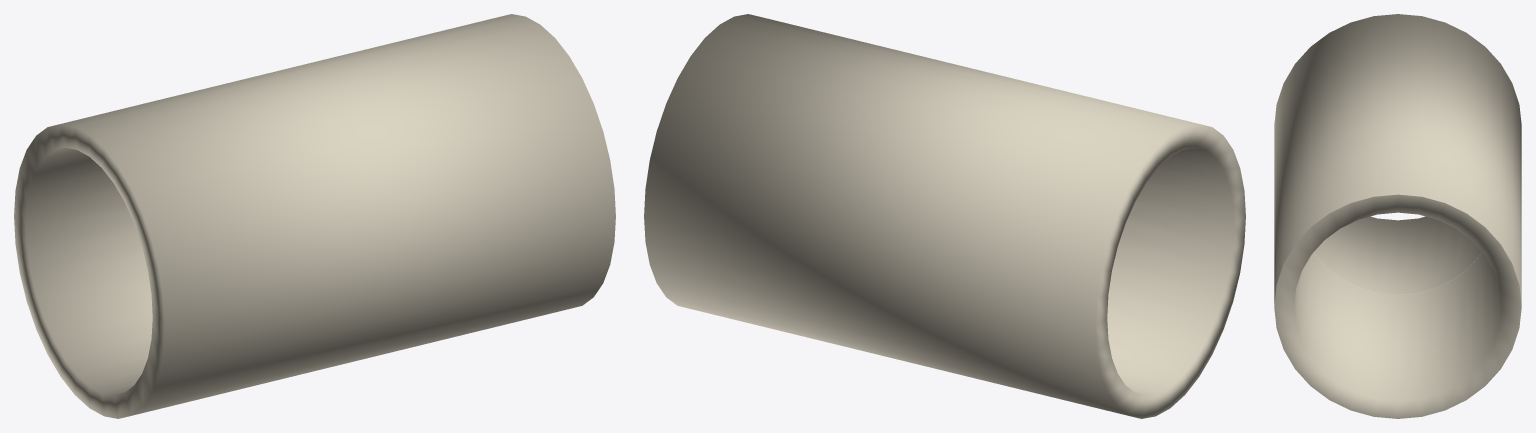
Rendered from ToiletRollEmptyV1.fbx.
The picture shows the model from 3 angles, left to right: view 1: azimuth 30°, elevation 25°; view 2: azimuth 150°, elevation 25°; view 3: azimuth 270°, elevation 25°; orthographic projection. The views are drawn at different scales.
Visible parts, largest first — view 1: Cylinder.005; view 2: Cylinder.005; view 3: Cylinder.005.
Part boxes in pixels (x1,y1,x2,y2): Cylinder.005: (14, 14, 615, 418); Cylinder.005: (644, 14, 1245, 418); Cylinder.005: (1274, 14, 1521, 418).
Size of the model in its own units: 187 by 324 by 187.
